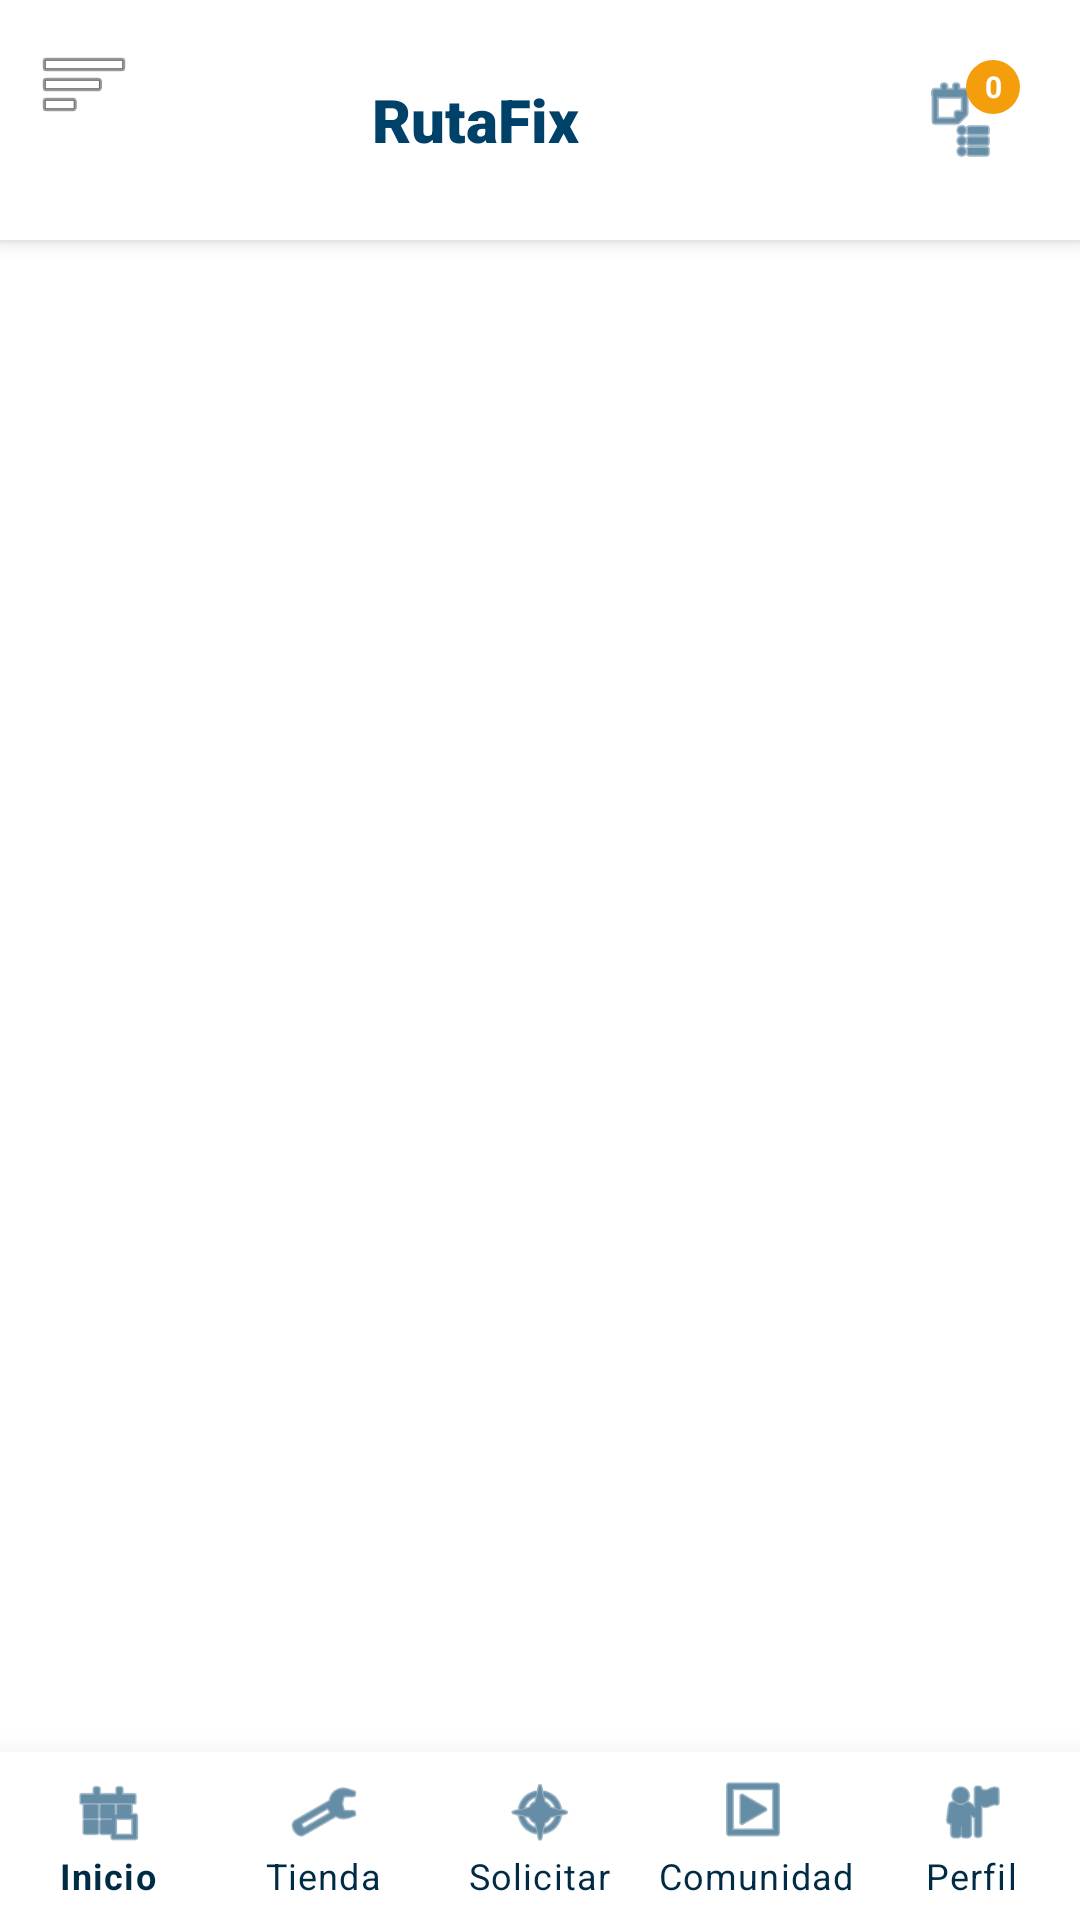

Locate icon controls on the screen. Image size 1080px x 1920px, boxes as (x1, y1, x2, y2).
agenda: (931, 78, 1002, 157)
